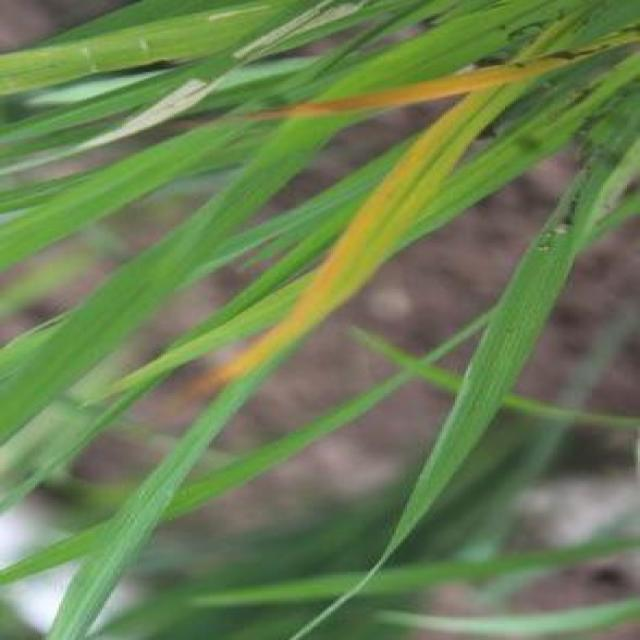Rice Tungro: (289, 66, 534, 122), (332, 179, 369, 298), (230, 324, 298, 374)
